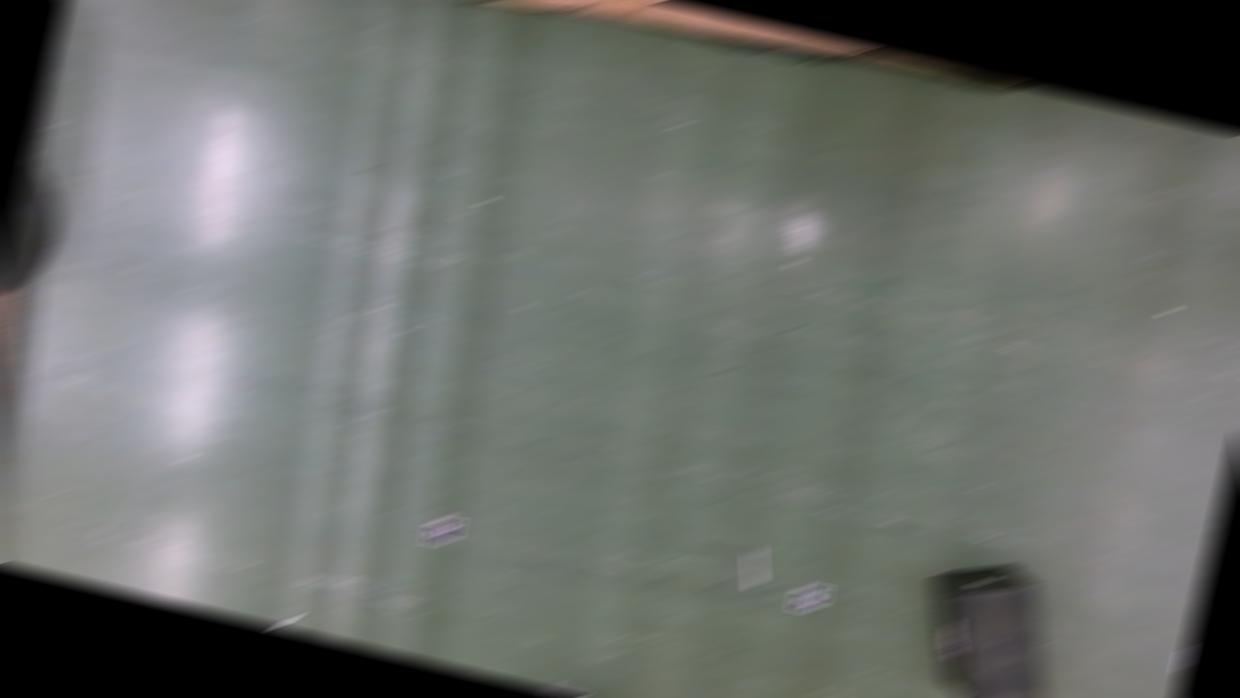probes: (739, 546, 769, 584), (266, 612, 296, 630)
rako: (903, 549, 1074, 697)
